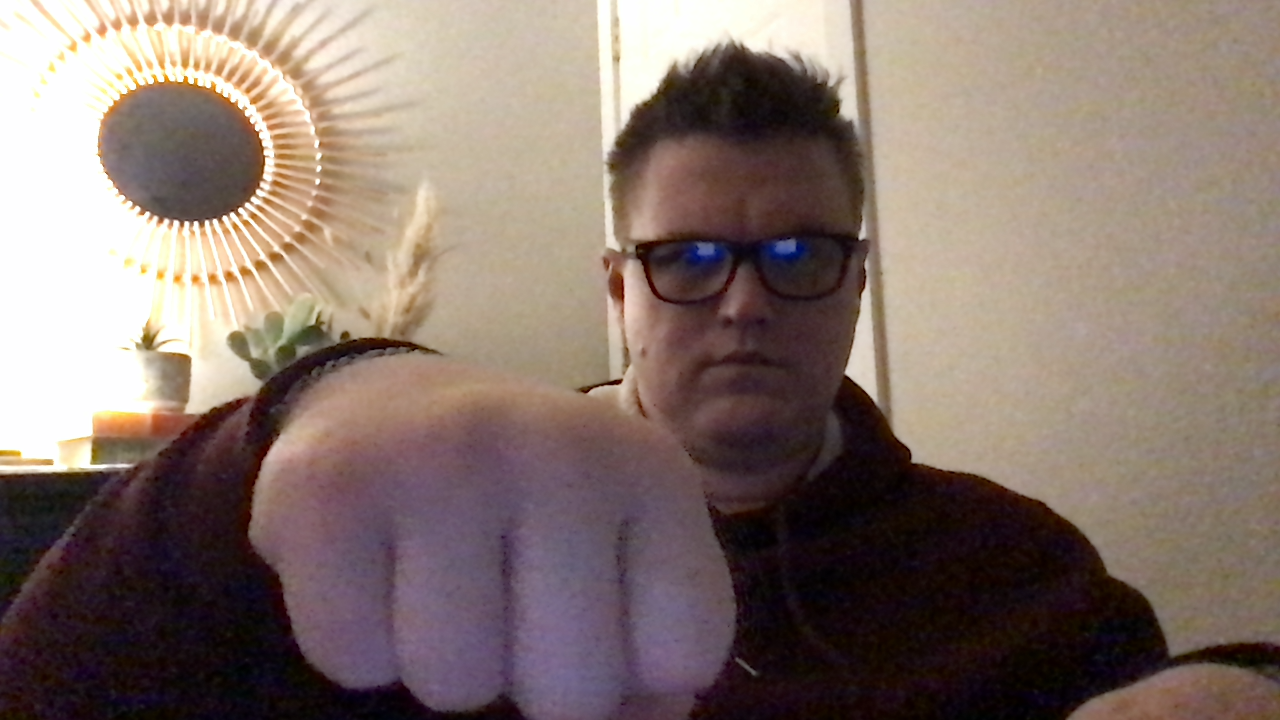yes: (251, 343, 743, 720)
